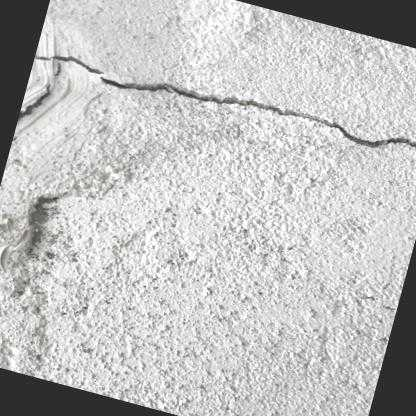crack: (33, 54, 416, 148)
